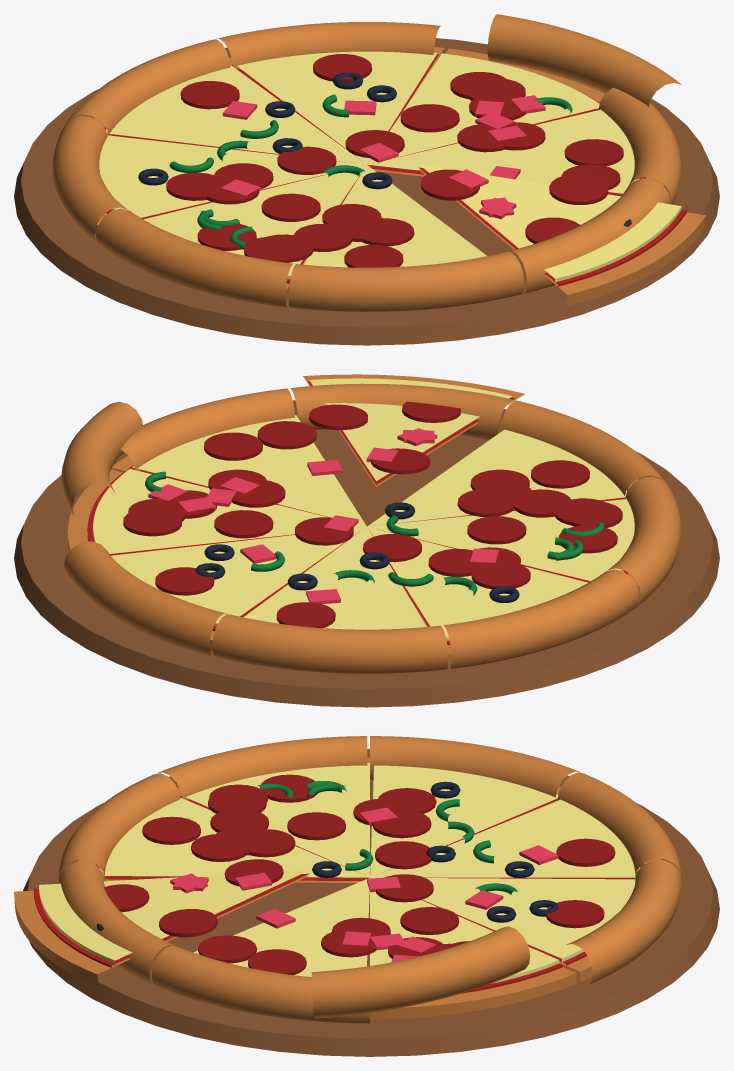
The model's file is pizza.glb.
The picture shows the model from 3 angles, top to bottom: view 1: azimuth 30°, elevation 25°; view 2: azimuth 150°, elevation 25°; view 3: azimuth 270°, elevation 25°; orthographic projection.
Parts seen in each view (by area): view 1: Pizza_Procedural, Porcion_Pizza_1, Porcion_Pizza_4, Porcion_Pizza_5, Porcion_Pizza_3, Porcion_Pizza_6, Porcion_Pizza_8, Porcion_Pizza_2, Porcion_Pizza_7; view 2: Pizza_Procedural, Porcion_Pizza_7, Porcion_Pizza_6, Porcion_Pizza_8, Porcion_Pizza_3, Porcion_Pizza_2, Porcion_Pizza_4, Porcion_Pizza_5, Porcion_Pizza_1; view 3: Pizza_Procedural, Porcion_Pizza_1, Porcion_Pizza_6, Porcion_Pizza_8, Porcion_Pizza_2, Porcion_Pizza_5, Porcion_Pizza_4, Porcion_Pizza_7, Porcion_Pizza_3.
Part boxes in pixels (x1,y1,x2,y2): Pizza_Procedural: (14, 38, 719, 345); Porcion_Pizza_1: (418, 14, 705, 305); Porcion_Pizza_4: (229, 47, 524, 311); Porcion_Pizza_5: (94, 65, 366, 307); Porcion_Pizza_3: (359, 48, 670, 293); Porcion_Pizza_6: (52, 116, 366, 245); Porcion_Pizza_8: (216, 22, 486, 267); Porcion_Pizza_2: (368, 87, 681, 204); Porcion_Pizza_7: (66, 39, 366, 289); Pizza_Procedural: (14, 400, 719, 707); Porcion_Pizza_7: (212, 498, 640, 673); Porcion_Pizza_6: (363, 526, 639, 668); Porcion_Pizza_8: (63, 429, 638, 655); Porcion_Pizza_3: (67, 383, 514, 555); Porcion_Pizza_2: (112, 388, 366, 526); Porcion_Pizza_4: (111, 400, 666, 651); Porcion_Pizza_5: (243, 476, 681, 629); Porcion_Pizza_1: (61, 374, 524, 515); Pizza_Procedural: (23, 749, 719, 1056); Porcion_Pizza_1: (14, 859, 530, 1018); Porcion_Pizza_6: (353, 736, 581, 877); Porcion_Pizza_8: (78, 797, 682, 983); Porcion_Pizza_2: (151, 878, 390, 1023); Porcion_Pizza_5: (157, 736, 661, 879); Porcion_Pizza_4: (58, 773, 635, 982); Porcion_Pizza_7: (177, 757, 681, 879); Porcion_Pizza_3: (58, 861, 576, 1019).
Size of the model in its own units: 5 by 0.614 by 5.04.
